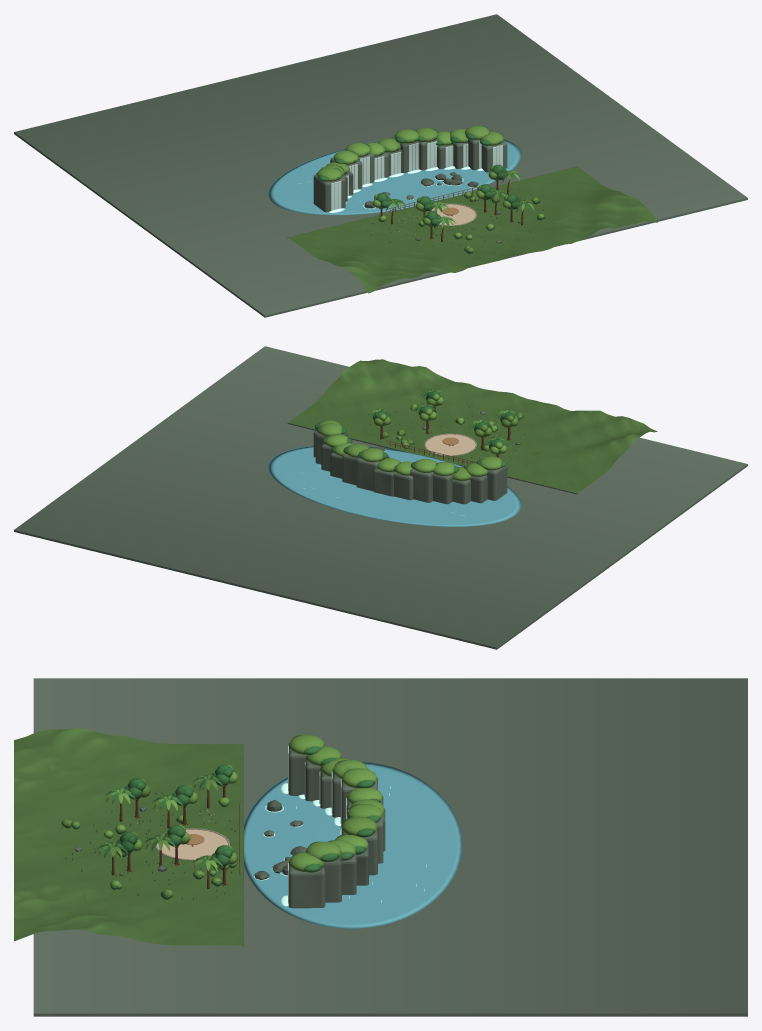
Rendered from cataratas.glb.
The picture shows the model from 3 angles, top to bottom: view 1: azimuth 30°, elevation 25°; view 2: azimuth 150°, elevation 25°; view 3: azimuth 270°, elevation 25°; orthographic projection. The views are drawn at different scales.
Parts seen in each view (by area): view 1: cataratas, cataratas_agua; view 2: cataratas, cataratas_agua; view 3: cataratas, cataratas_agua.
Boxes of the visible parts, left/top/right/bottom form: cataratas: left=14, top=14, right=747, bottom=317; cataratas_agua: left=268, top=139, right=521, bottom=215; cataratas: left=14, top=346, right=747, bottom=649; cataratas_agua: left=268, top=446, right=521, bottom=526; cataratas: left=14, top=678, right=747, bottom=1016; cataratas_agua: left=244, top=761, right=462, bottom=928.
Bounding box in the file's own units: 100 × 8.82 × 92.5.
